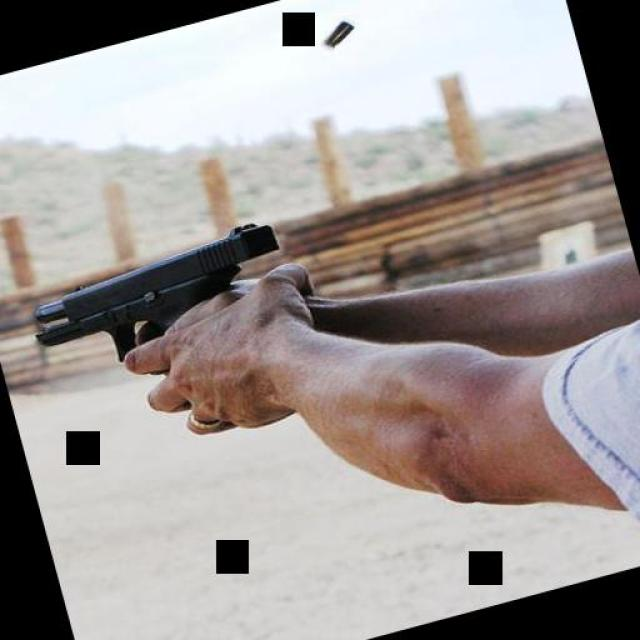gun: (16, 212, 292, 382)
